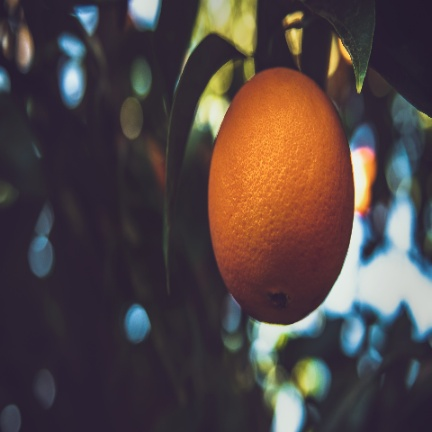orange: (193, 63, 385, 334)
